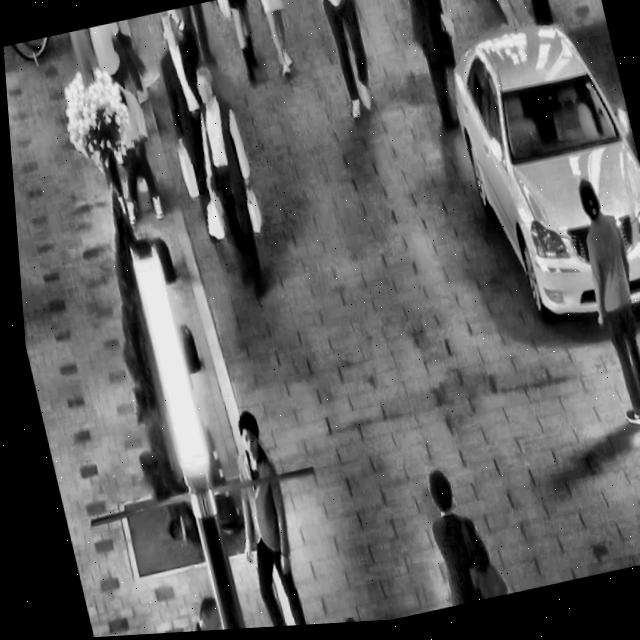light_vehicle: (430, 0, 640, 353)
